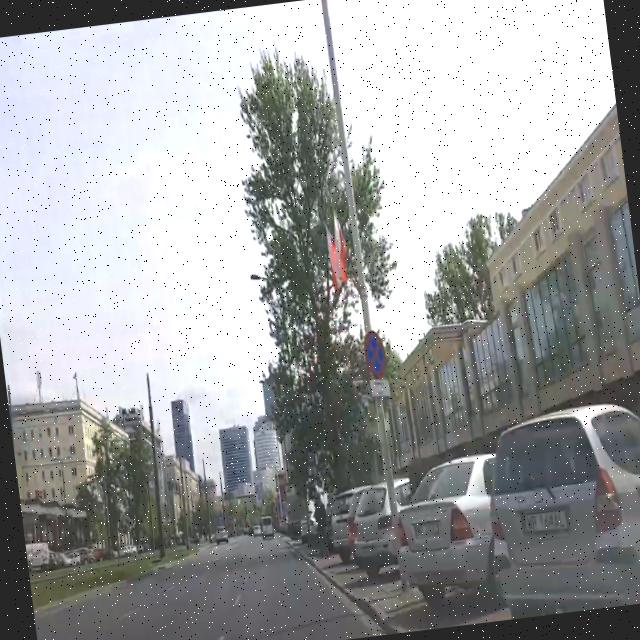Zakaz zatrzymywania sie: (362, 326, 388, 378)
